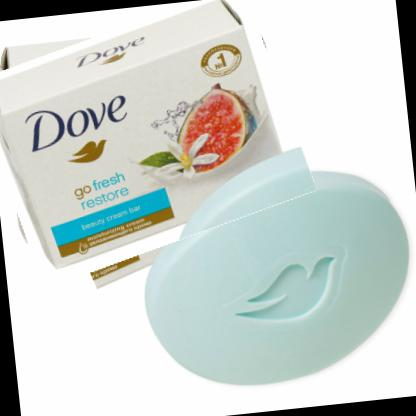soap: (81, 131, 415, 415), (0, 0, 312, 276)
